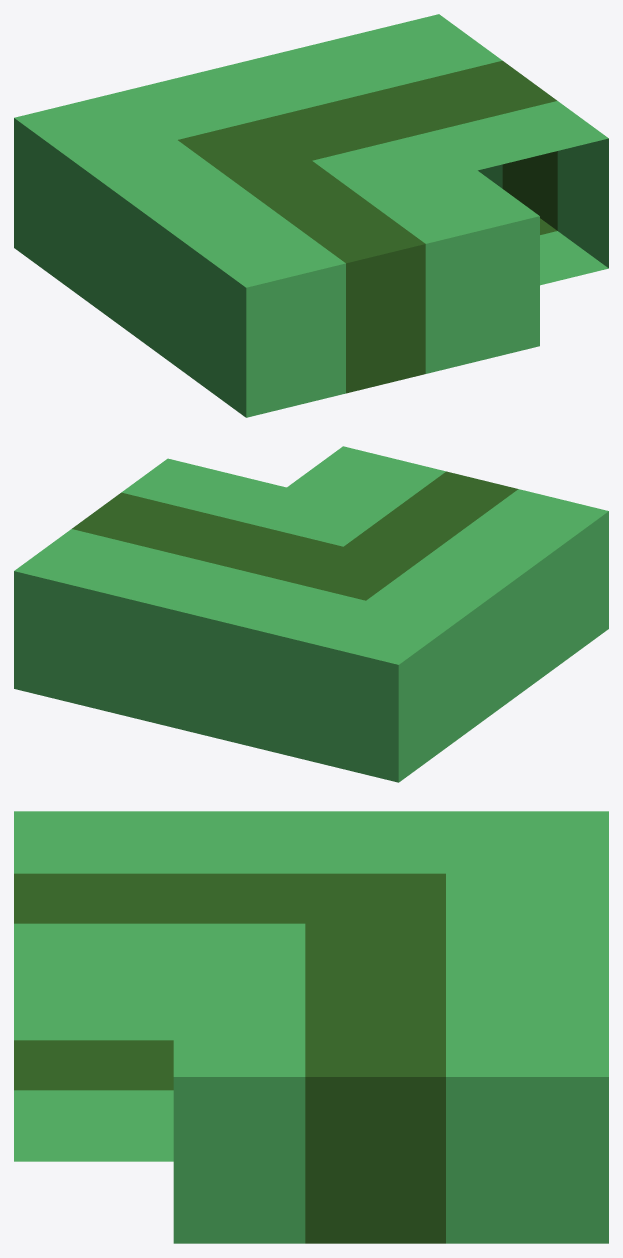
The model's file is Nenuphar.fbx.
The picture shows the model from 3 angles, top to bottom: view 1: azimuth 30°, elevation 25°; view 2: azimuth 150°, elevation 25°; view 3: azimuth 270°, elevation 25°; orthographic projection. The views are drawn at different scales.
Parts seen in each view (by area): view 1: Cube; view 2: Cube; view 3: Cube.
Part boxes in pixels (x1,y1,x2,y2): Cube: (14,14,608,417); Cube: (14,446,608,782); Cube: (14,811,608,1243).
Size of the model in its own units: 206 by 60.22 by 195.
